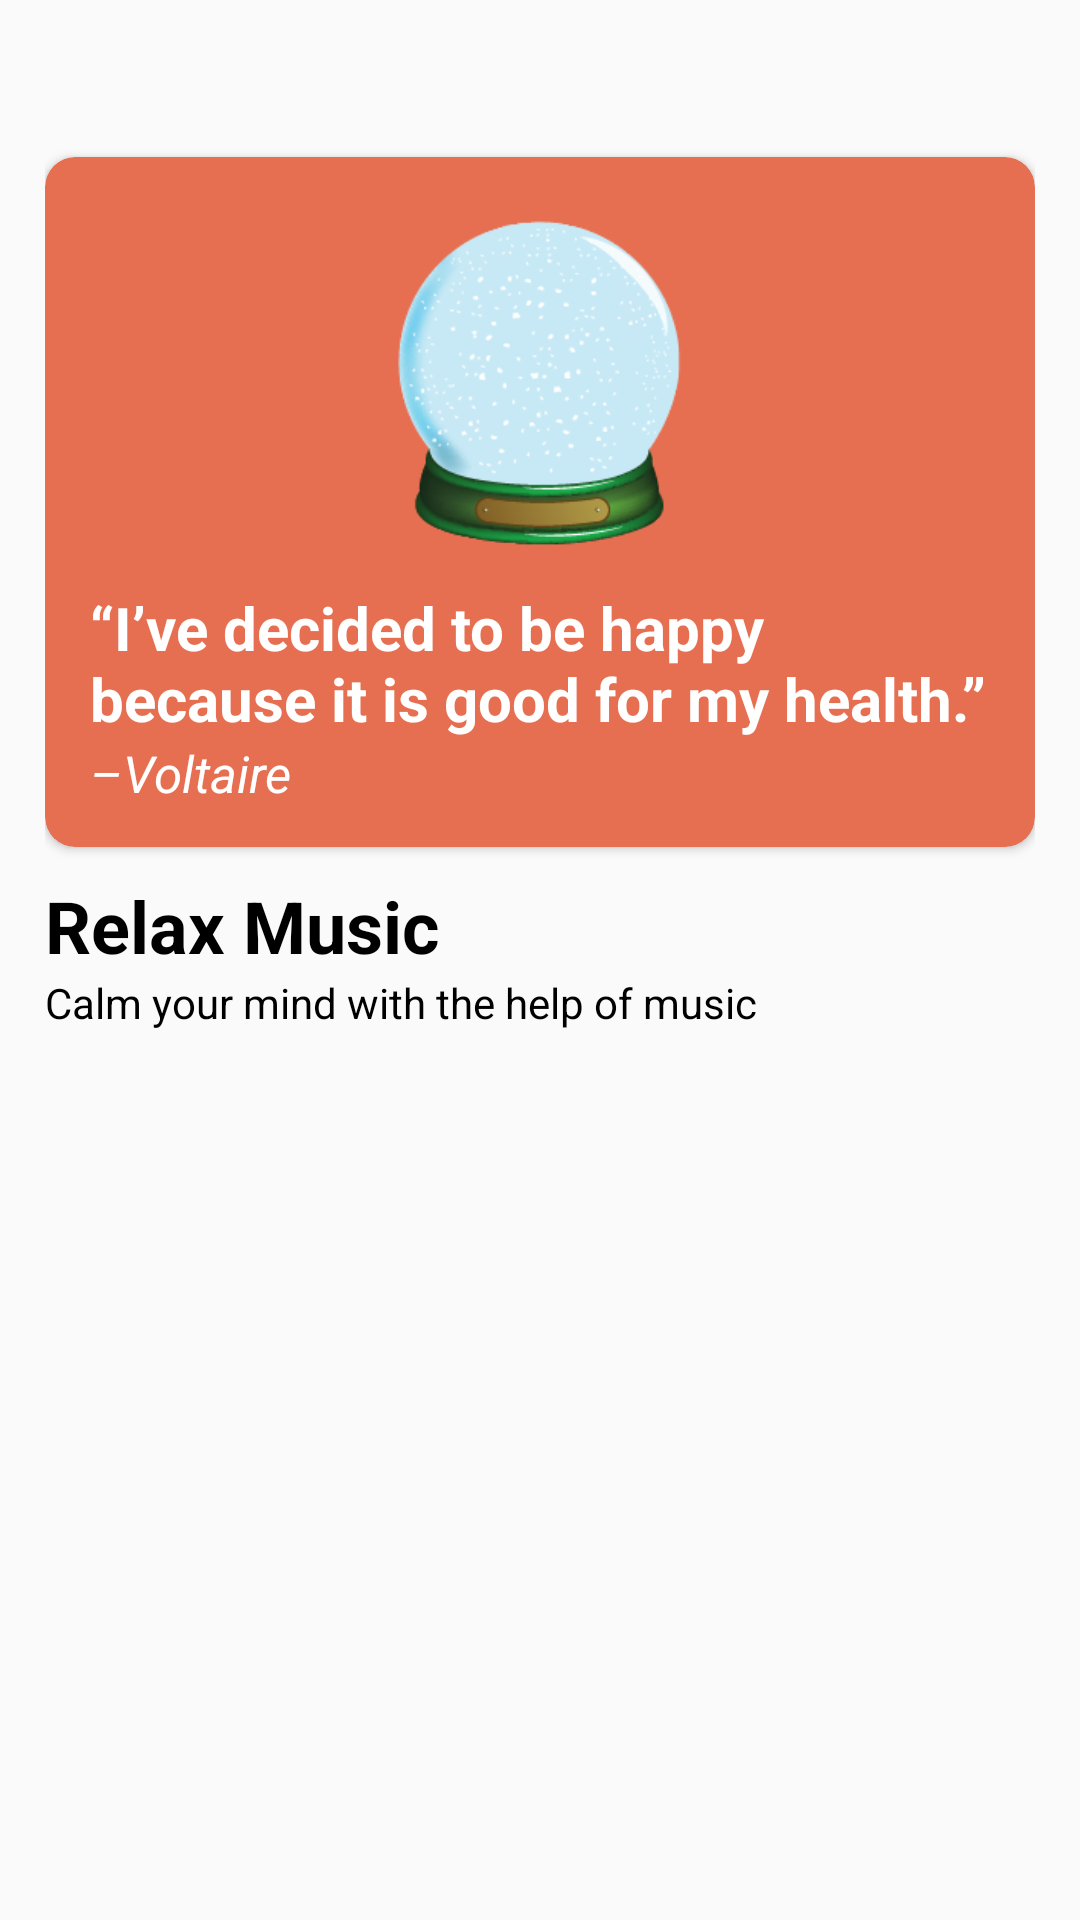

Where to tap for icons on this 1080px×1920px app screen, as (x,y):
globe: (539,383)
